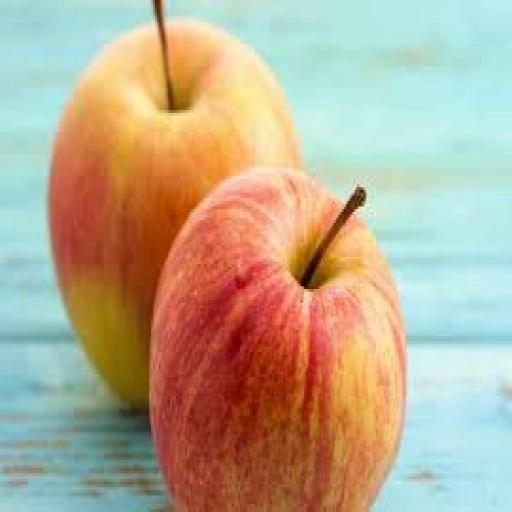apple: (49, 23, 299, 407), (149, 168, 405, 511)
